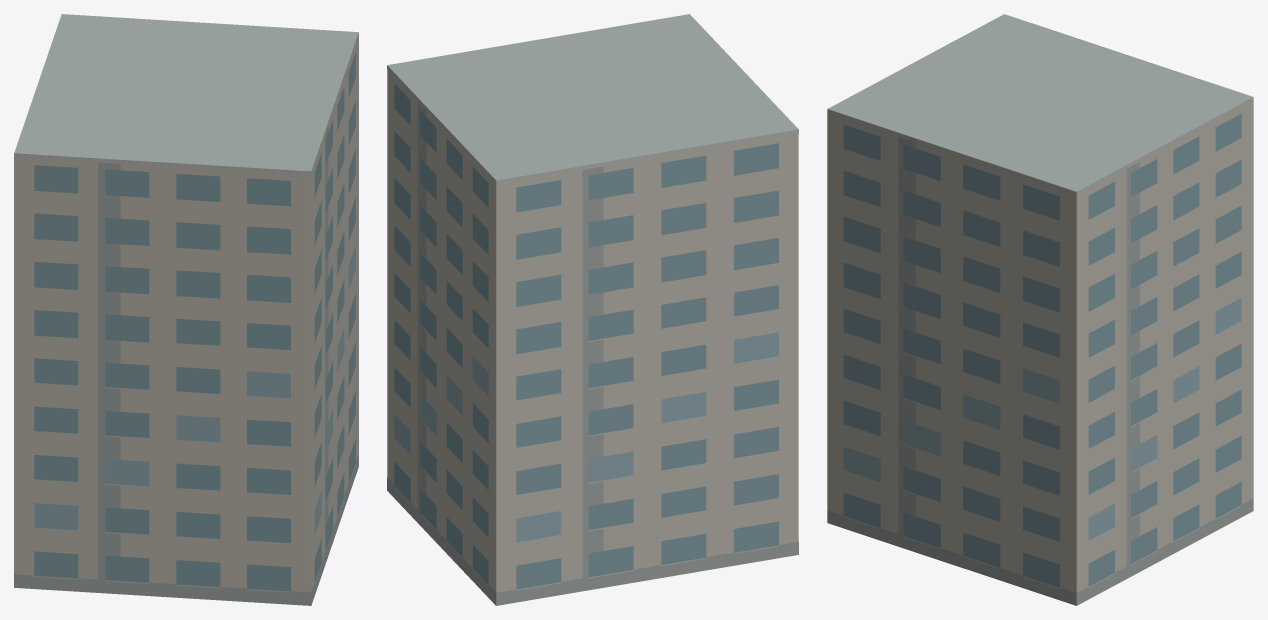
The model's file is residential-60146eaf-6f2d-4e38-845c-08e88c474ecc.glb.
3 renders of one model, left to right at view 1: azimuth 30°, elevation 25°; view 2: azimuth 150°, elevation 25°; view 3: azimuth 270°, elevation 25°, orthographic. The views are drawn at different scales.
Parts seen in each view (by area): view 1: residential-60146eaf-6f2d-4e38-845c-08e88c474ecc.tmp; view 2: residential-60146eaf-6f2d-4e38-845c-08e88c474ecc.tmp; view 3: residential-60146eaf-6f2d-4e38-845c-08e88c474ecc.tmp.
Part boxes in pixels (x1,y1,x2,y2): residential-60146eaf-6f2d-4e38-845c-08e88c474ecc.tmp: (14,14,358,605); residential-60146eaf-6f2d-4e38-845c-08e88c474ecc.tmp: (387,14,798,605); residential-60146eaf-6f2d-4e38-845c-08e88c474ecc.tmp: (827,14,1253,605).
Bounding box in the file's own units: 23.04 × 25 × 23.33.
